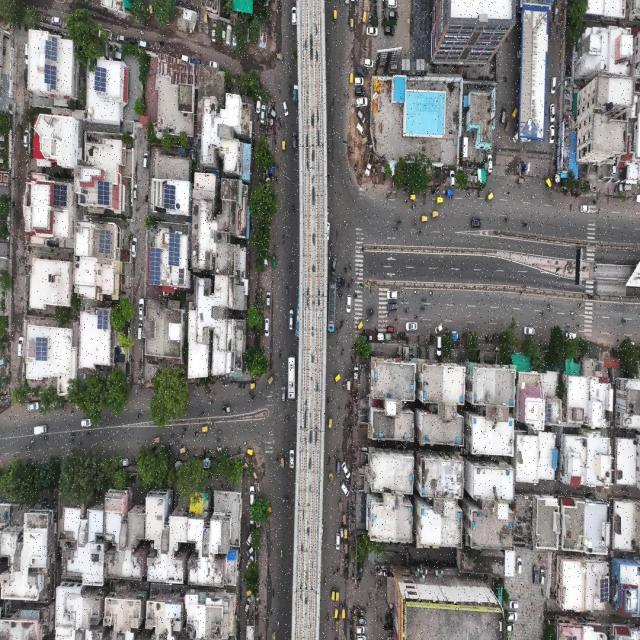3W: (200, 419, 210, 439), (342, 553, 353, 569), (341, 538, 351, 555), (484, 188, 496, 202), (504, 115, 511, 139), (337, 496, 346, 514), (543, 175, 552, 193), (280, 138, 288, 158), (331, 7, 339, 27), (430, 208, 442, 221), (267, 373, 278, 387), (511, 104, 520, 121), (335, 586, 344, 602), (339, 607, 348, 622), (408, 188, 417, 203), (333, 605, 340, 624), (348, 13, 355, 32), (342, 571, 352, 584), (418, 212, 428, 225), (341, 513, 348, 531), (435, 193, 444, 206), (365, 304, 374, 317), (348, 67, 354, 86), (330, 588, 336, 604), (250, 381, 257, 391)
Bus: (325, 277, 337, 335), (286, 353, 298, 407)
Cars: (538, 559, 550, 593), (521, 322, 537, 342), (140, 146, 152, 171), (131, 179, 142, 206), (485, 149, 495, 178), (245, 484, 256, 510), (354, 108, 368, 127), (129, 235, 138, 264), (288, 444, 298, 470), (112, 30, 128, 46), (404, 316, 419, 333), (345, 289, 352, 325), (225, 18, 233, 49), (532, 559, 541, 586), (243, 557, 260, 571), (577, 199, 591, 216), (31, 423, 49, 436), (288, 306, 297, 332), (138, 294, 146, 323), (432, 316, 444, 335), (385, 296, 400, 311), (290, 127, 298, 155), (365, 23, 379, 39), (355, 96, 371, 110), (383, 287, 400, 300), (264, 312, 271, 342), (382, 23, 396, 38), (24, 399, 40, 412), (342, 456, 350, 482), (548, 120, 555, 149), (499, 102, 507, 127), (333, 532, 342, 554), (469, 215, 483, 229), (385, 8, 399, 22), (241, 596, 253, 612), (331, 253, 339, 277), (436, 333, 443, 360), (448, 169, 456, 192), (515, 552, 523, 575), (112, 48, 125, 62), (354, 66, 368, 79), (507, 597, 521, 610), (333, 458, 342, 478), (362, 54, 374, 69), (354, 85, 369, 97), (210, 20, 217, 45), (291, 3, 298, 28), (551, 74, 558, 99), (271, 250, 280, 269), (281, 98, 290, 117), (326, 415, 336, 432), (80, 414, 93, 427), (353, 122, 366, 135), (354, 75, 368, 87), (564, 326, 576, 340), (506, 623, 518, 637), (119, 453, 130, 468), (128, 32, 138, 48), (52, 13, 63, 27), (549, 100, 556, 122), (341, 481, 350, 498), (333, 370, 342, 387), (281, 384, 288, 405), (281, 451, 288, 472), (356, 317, 365, 333), (355, 613, 366, 626), (179, 51, 192, 62), (266, 106, 277, 119), (135, 321, 142, 340), (138, 39, 149, 51), (507, 613, 519, 624), (209, 59, 223, 68), (259, 104, 265, 125), (387, 323, 398, 334), (245, 530, 253, 545), (385, 0, 400, 8), (357, 624, 366, 637), (266, 287, 271, 310), (246, 543, 254, 557), (191, 54, 202, 64)
LCV: (363, 149, 376, 179), (221, 402, 232, 422), (293, 82, 300, 107)
M2W: (339, 85, 353, 102), (393, 212, 406, 230), (290, 196, 299, 217), (519, 216, 530, 233), (543, 300, 556, 313), (616, 317, 630, 329), (328, 234, 336, 254), (285, 409, 292, 430), (346, 258, 354, 276), (67, 434, 77, 448), (537, 307, 547, 321), (279, 231, 287, 248), (502, 213, 510, 230), (321, 574, 330, 589), (399, 294, 411, 305), (502, 187, 513, 199), (135, 409, 145, 422), (273, 447, 279, 466), (383, 308, 393, 319), (576, 301, 586, 312), (179, 420, 188, 432), (216, 424, 225, 436), (326, 448, 332, 466), (197, 408, 209, 417), (391, 224, 400, 236), (276, 616, 283, 631), (278, 544, 284, 561), (339, 341, 345, 358), (41, 434, 51, 444), (215, 436, 225, 446), (403, 304, 412, 315), (326, 146, 333, 160), (285, 282, 291, 298), (350, 275, 356, 291), (281, 491, 286, 509), (286, 494, 292, 509), (327, 608, 333, 623), (419, 303, 428, 313), (29, 435, 37, 446), (178, 430, 186, 441), (416, 228, 424, 239), (570, 307, 577, 319), (207, 399, 216, 408), (343, 259, 348, 275), (325, 393, 331, 406), (343, 218, 349, 231), (429, 286, 435, 299), (76, 437, 83, 448), (169, 430, 176, 441), (69, 431, 77, 440), (192, 430, 200, 439), (414, 310, 420, 322), (393, 313, 400, 323), (364, 318, 374, 325), (327, 167, 332, 181), (573, 322, 583, 329), (288, 260, 293, 273), (422, 294, 429, 303), (25, 444, 31, 454), (411, 216, 416, 228), (413, 287, 419, 297), (86, 430, 93, 437)
